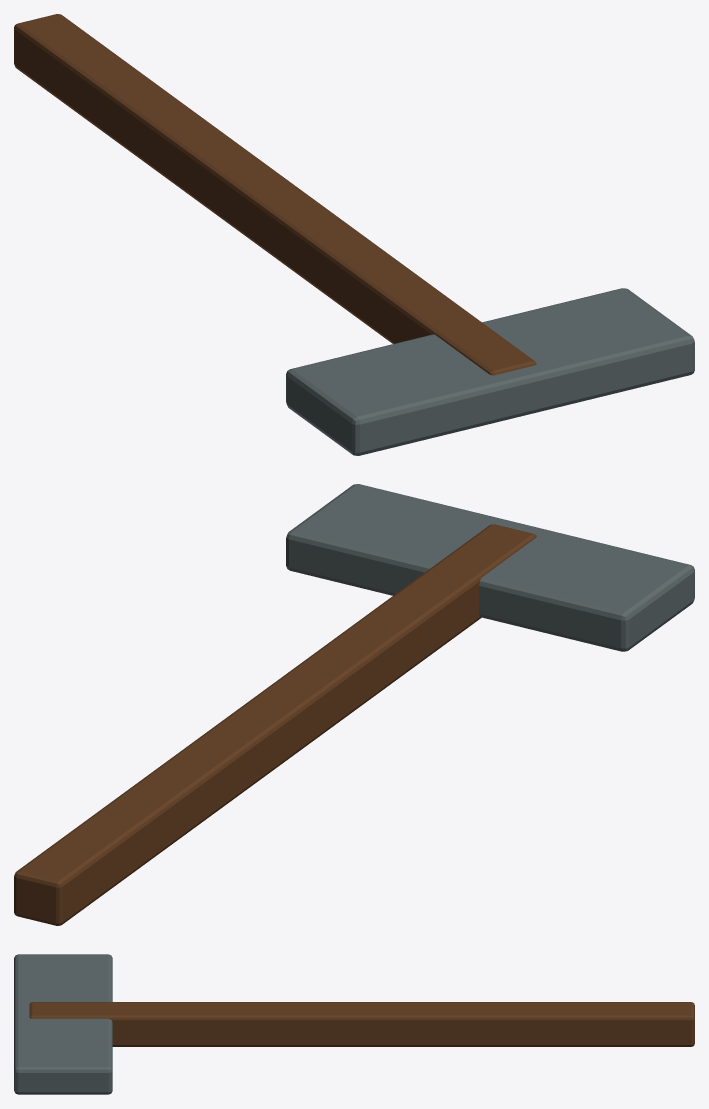
File: pelekys_axe_2h_LOD2.glb
The picture shows the model from 3 angles, top to bottom: view 1: azimuth 30°, elevation 25°; view 2: azimuth 150°, elevation 25°; view 3: azimuth 270°, elevation 25°; orthographic projection. The views are drawn at different scales.
Parts seen in each view (by area): view 1: LOD2_Haft, LOD2_Head; view 2: LOD2_Haft, LOD2_Head; view 3: LOD2_Haft, LOD2_Head.
Boxes of the visible parts, bbox=[...] form: LOD2_Haft: bbox=[14, 14, 536, 375]; LOD2_Head: bbox=[286, 288, 694, 455]; LOD2_Haft: bbox=[14, 524, 536, 925]; LOD2_Head: bbox=[286, 484, 694, 651]; LOD2_Haft: bbox=[29, 1002, 694, 1046]; LOD2_Head: bbox=[14, 954, 112, 1094].
Bounding box in the file's own units: 0.64 × 0.08 × 1.58.
